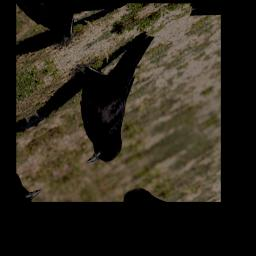Crow: (43, 23, 195, 174)
